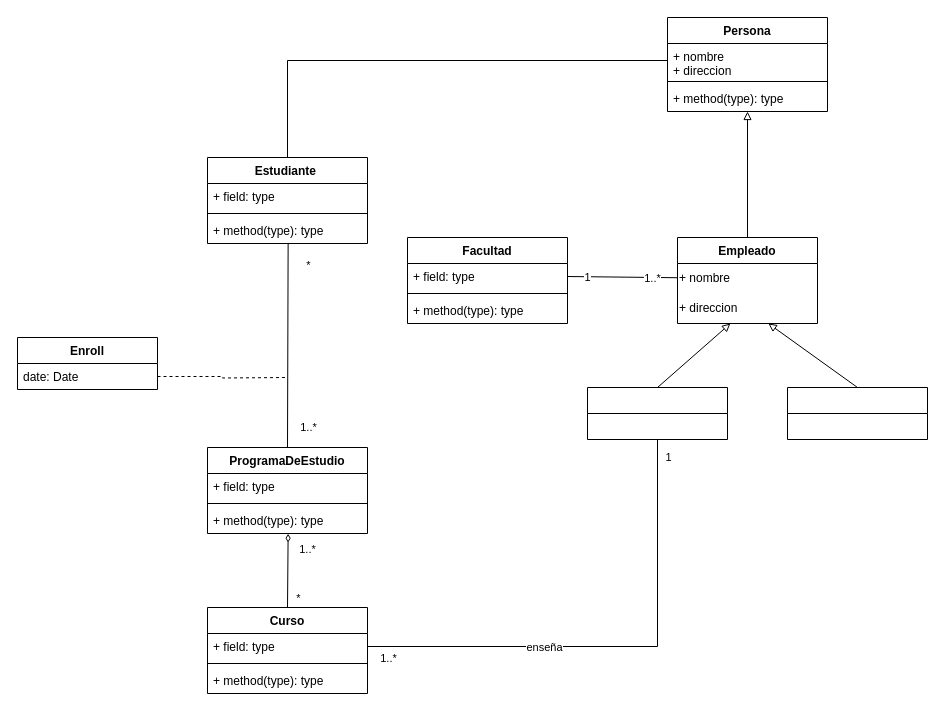
The diagram is 946 pixels wide and 714 high, and some of its shapes have lost their labels. The shapes that lost their labels are listed below. From the top down, each one's centre as x and y in pixels, then its label:
At (657,413): "InvestigadorAsociado".
At (857,413): "EmpleadoAdministrativo".
